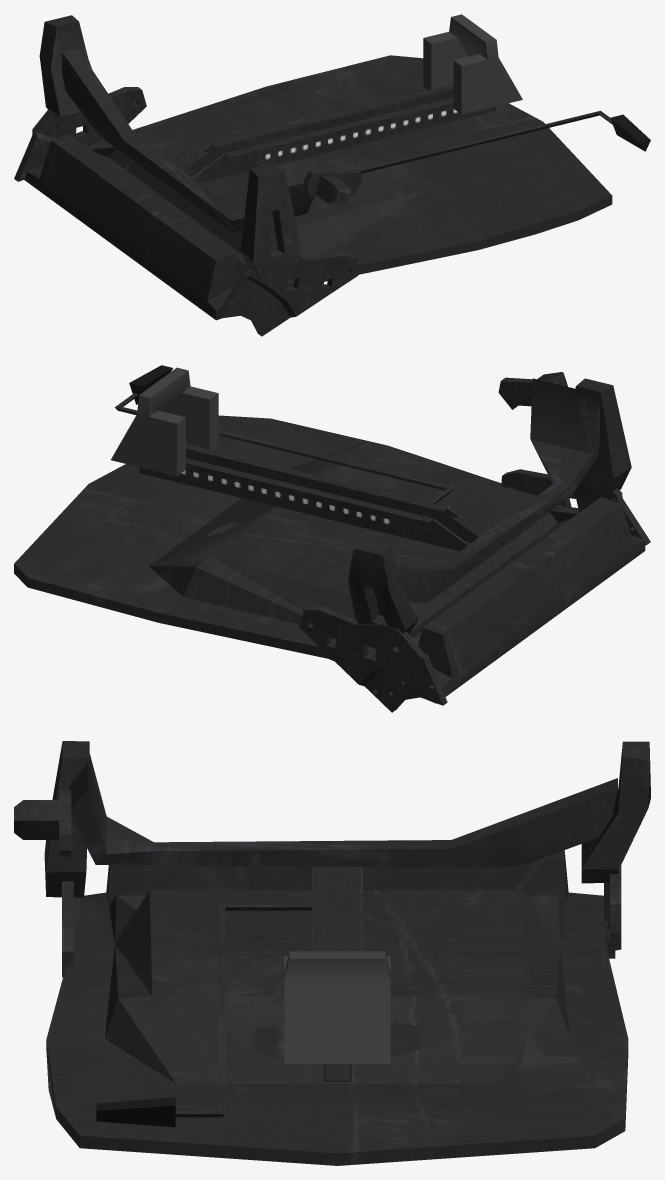
Rendered from CheDiJia.fbx.
3 renders of one model, top to bottom at view 1: azimuth 30°, elevation 25°; view 2: azimuth 150°, elevation 25°; view 3: azimuth 270°, elevation 25°, orthographic. The views are drawn at different scales.
Visible parts, largest first — view 1: YF_Model_CheDiJia; view 2: YF_Model_CheDiJia; view 3: YF_Model_CheDiJia.
Boxes of the visible parts, x1,y1,x2,y2 form: YF_Model_CheDiJia: (14,14,650,336); YF_Model_CheDiJia: (14,365,650,712); YF_Model_CheDiJia: (14,741,650,1165).
Size of the model in its own units: 559 by 194 by 498.
Materials: 1 (1 with a texture image).
